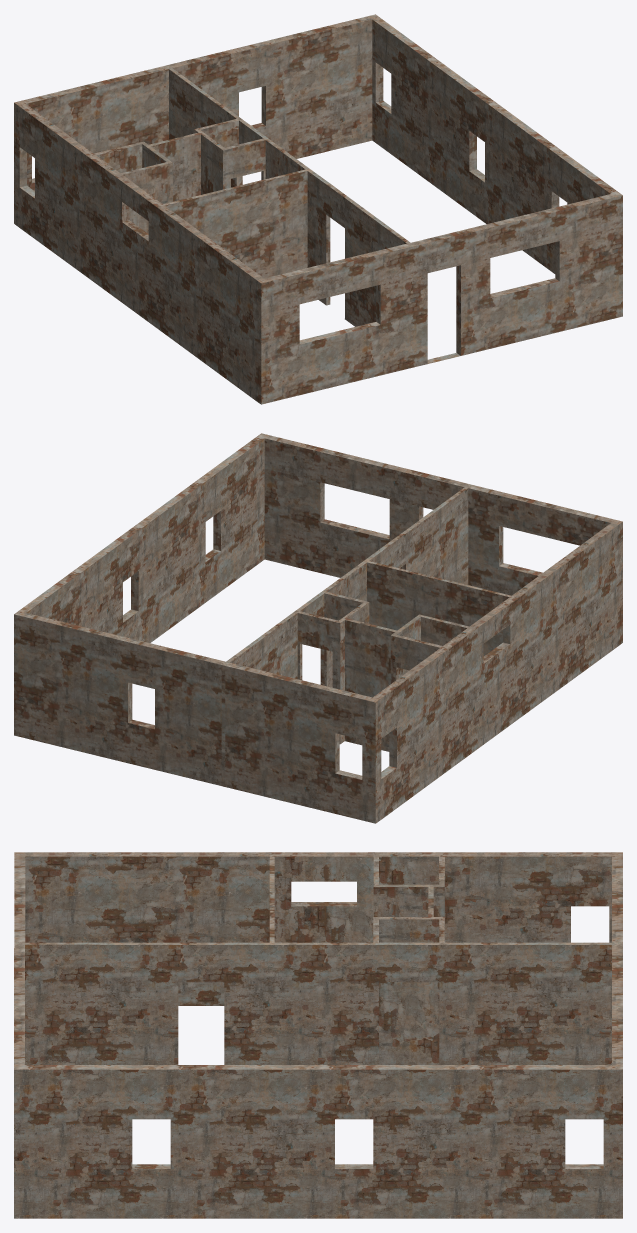
Rendered from paredes.fbx.
3 views of the same model, one above another, from view 1: azimuth 30°, elevation 25°; view 2: azimuth 150°, elevation 25°; view 3: azimuth 270°, elevation 25° (orthographic). The views are drawn at different scales.
Visible parts, largest first — view 1: Casa; view 2: Casa; view 3: Casa.
Part boxes in pixels (<box>): Casa: <box>14,14,622,404</box>; Casa: <box>14,433,622,823</box>; Casa: <box>14,852,622,1218</box>.
Size of the model in its own units: 938 by 300 by 1111.
